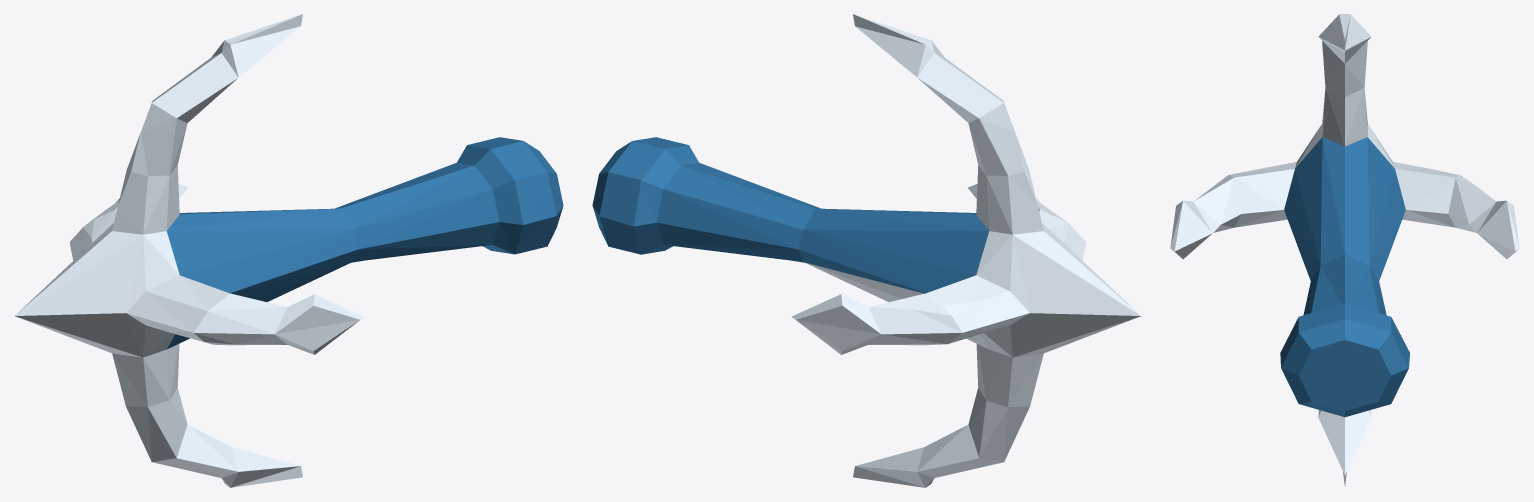
The model's file is VR_AD_Proop_Hook_01a.glb.
3 renders of one model, left to right at view 1: azimuth 30°, elevation 25°; view 2: azimuth 150°, elevation 25°; view 3: azimuth 270°, elevation 25°, orthographic. The views are drawn at different scales.
Parts seen in each view (by area): view 1: VR_AD_Proop_Hook_01a; view 2: VR_AD_Proop_Hook_01a; view 3: VR_AD_Proop_Hook_01a.
Part boxes in pixels (bbox=[...]): VR_AD_Proop_Hook_01a: bbox=[15, 14, 563, 487]; VR_AD_Proop_Hook_01a: bbox=[592, 14, 1140, 487]; VR_AD_Proop_Hook_01a: bbox=[1170, 14, 1519, 486].
Size of the model in its own units: 0.0579 by 0.0488 by 0.0345.
Materials: 1 (1 with a texture image).
